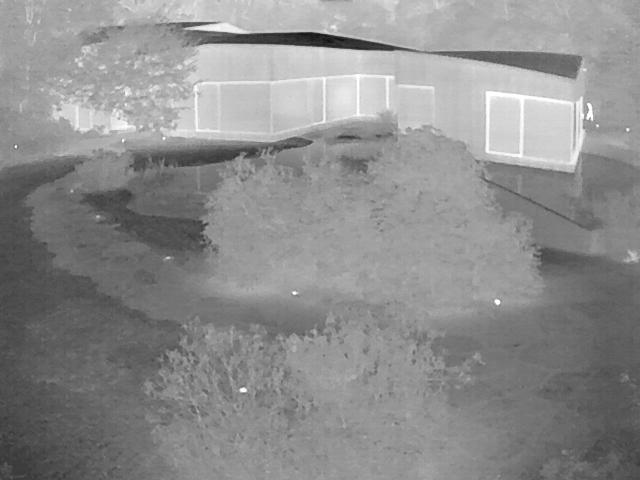person: (587, 102, 595, 122)
